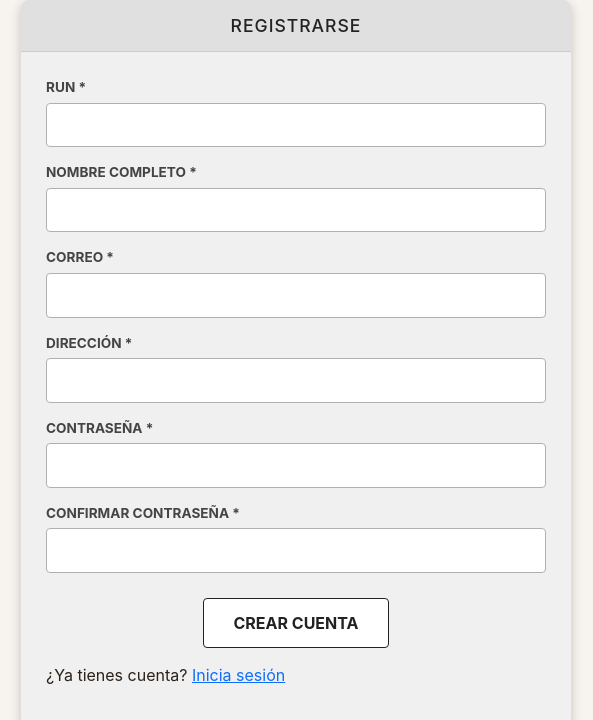
Scenario: Registro › debe mostrar error si la contraseña tiene menos de 8 caracteres
Type "12345678-5" into the field labelled "RUN *" at {"x": 296, "y": 125}, box left=46, top=102, right=546, bottom=147
Type "Ana Pérez" into the field labelled "NOMBRE COMPLETO *" at {"x": 296, "y": 210}, box left=46, top=188, right=546, bottom=232
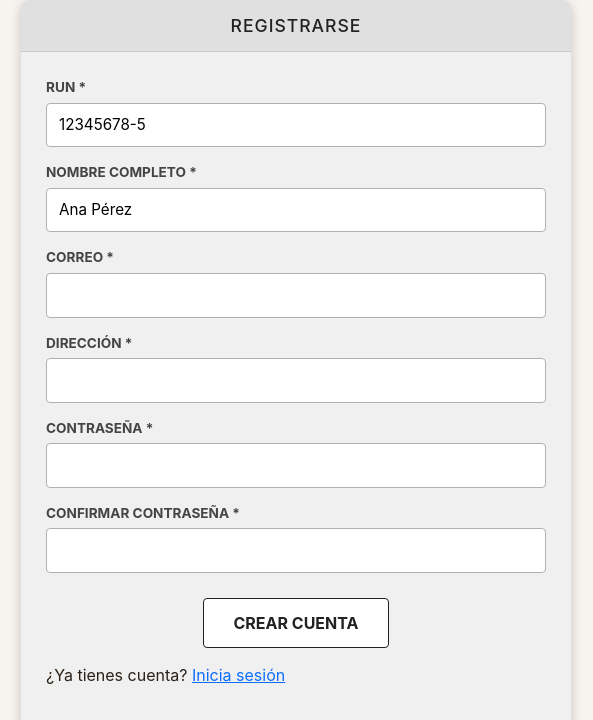
Type "ana@gmail.com" into the field labelled "CORREO *" at {"x": 296, "y": 295}, box left=46, top=273, right=546, bottom=318
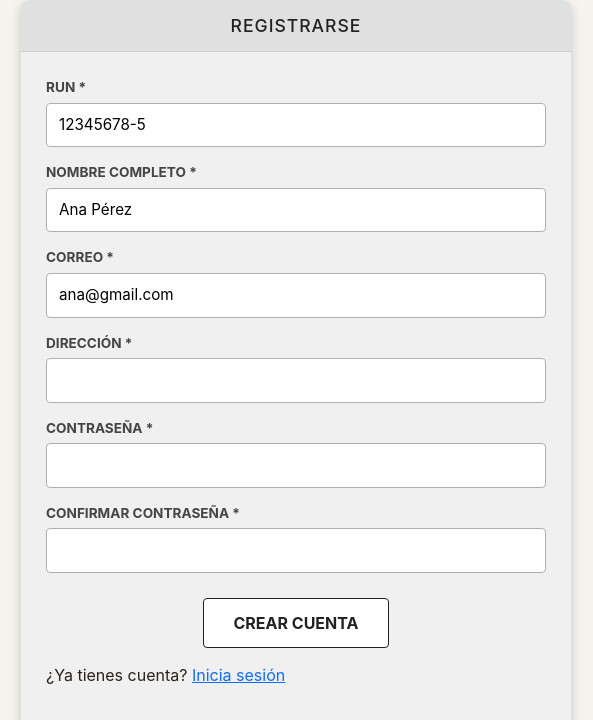
Type "Av. Siempre Viva 123" into the field labelled "DIRECCIÓN *" at {"x": 296, "y": 380}, box left=46, top=358, right=546, bottom=403
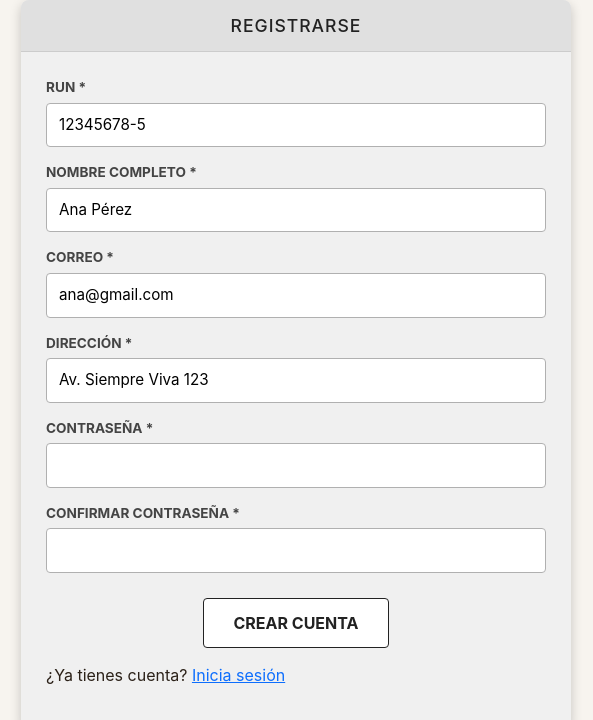
Type "abc123" into the password field labelled "CONTRASEÑA *" at {"x": 296, "y": 466}, box left=46, top=443, right=546, bottom=488
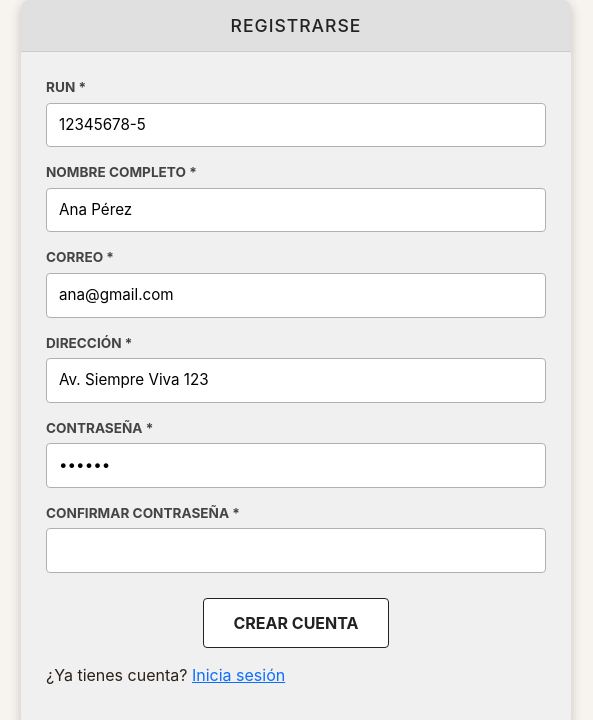
Type "abc123" into the password field labelled "CONFIRMAR CONTRASEÑA *" at {"x": 296, "y": 551}, box left=46, top=528, right=546, bottom=573
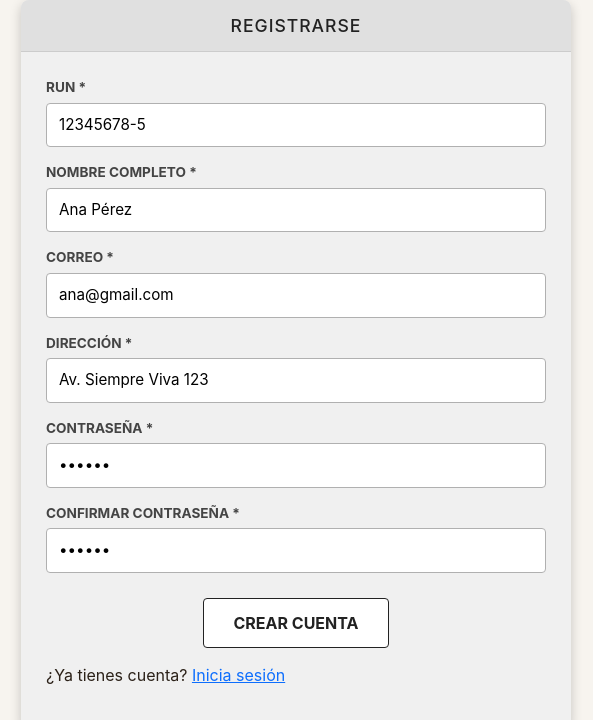
Click the button "CREAR CUENTA" at {"x": 296, "y": 623}, box left=202, top=598, right=390, bottom=648
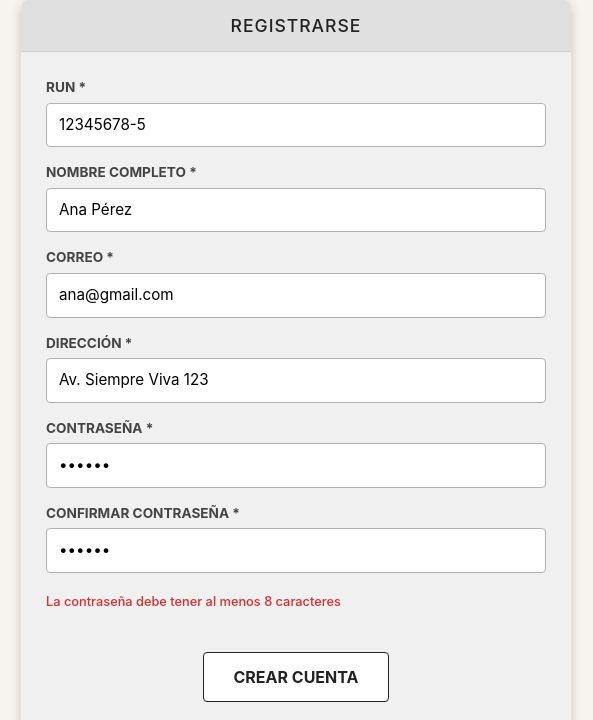
Check: the message reads "La contraseña debe tener al menos 8 caracteres", box left=46, top=594, right=341, bottom=609
